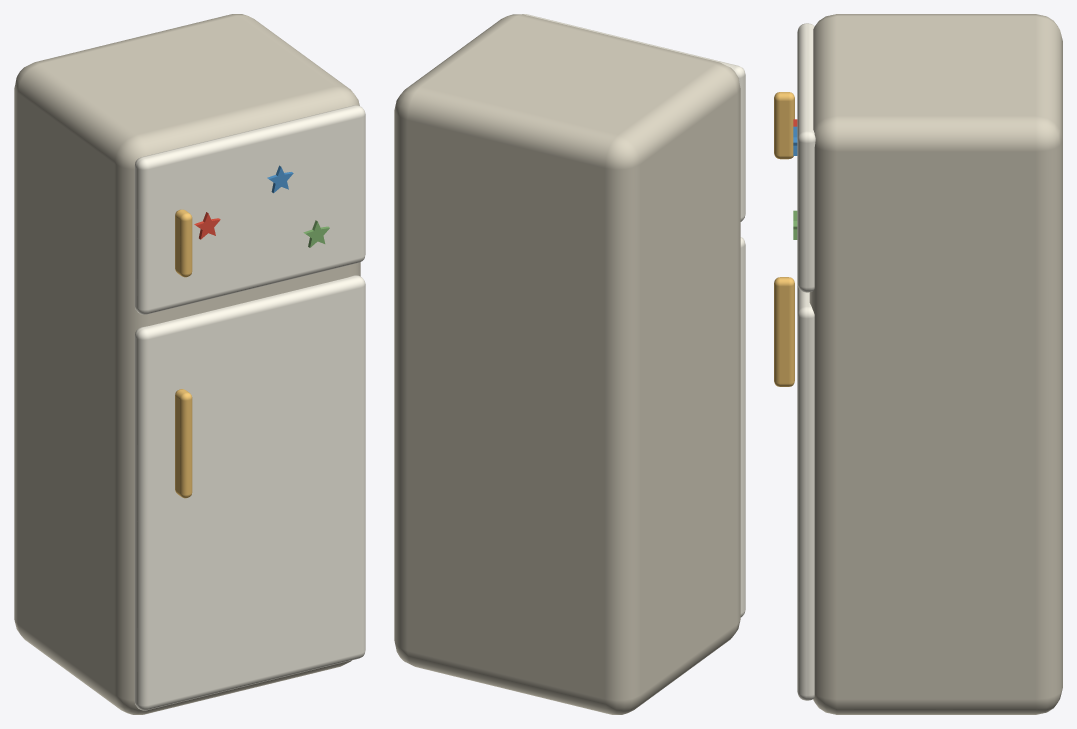
The model's file is Kitchen_Fridge.glb.
3 views of the same model, side by side, from view 1: azimuth 30°, elevation 25°; view 2: azimuth 150°, elevation 25°; view 3: azimuth 270°, elevation 25° (orthographic). The views are drawn at different scales.
Parts seen in each view (by area): view 1: Kitchen_Fridge; view 2: Kitchen_Fridge; view 3: Kitchen_Fridge.
Boxes of the visible parts, x1,y1,x2,y2 form: Kitchen_Fridge: (14,14,365,714); Kitchen_Fridge: (394,14,745,714); Kitchen_Fridge: (774,14,1062,714).
Size of the model in its own units: 0.8 by 1.82 by 0.799.
6 materials, 3 textured.
